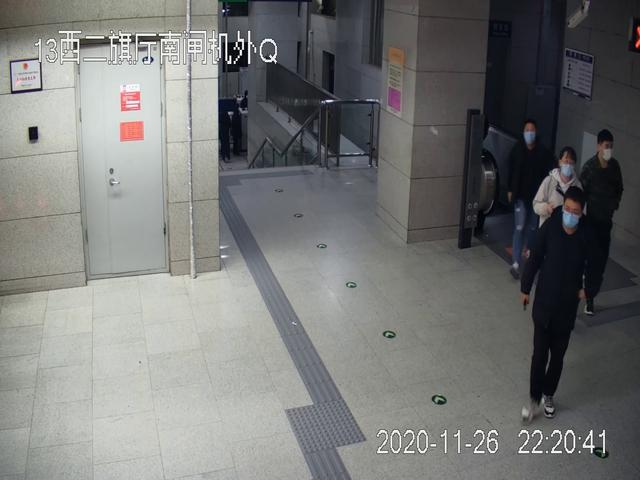person: (520, 184, 590, 421), (534, 147, 586, 319), (506, 119, 558, 277), (583, 128, 624, 315)
